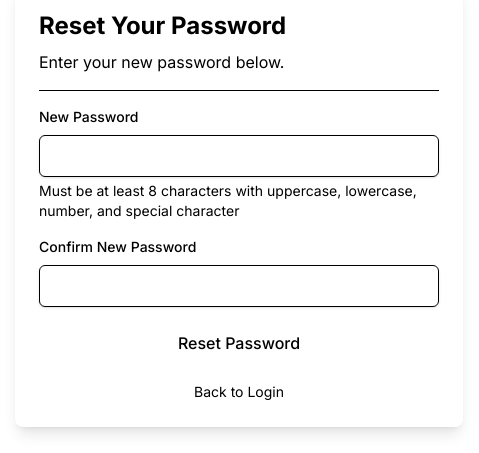
Test: ResetPasswordPage › shows validation error for password too short
Expected: the button "Reset Password" is shown, [39,322,439,362]
Type "Short1!" into the password field labelled "New Password" at (239, 156), box [39,134,439,176]
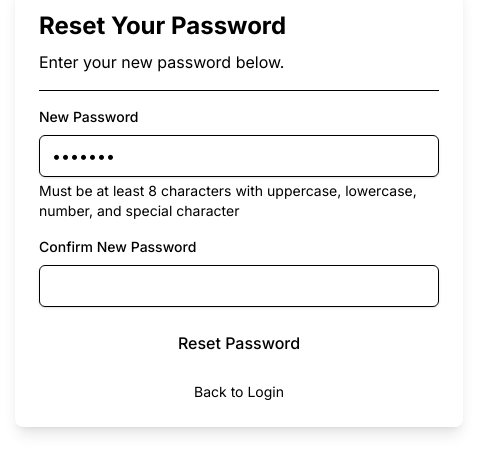
Type "Short1!" into the password field labelled "Confirm New Password" at (239, 286), box [39,264,439,306]
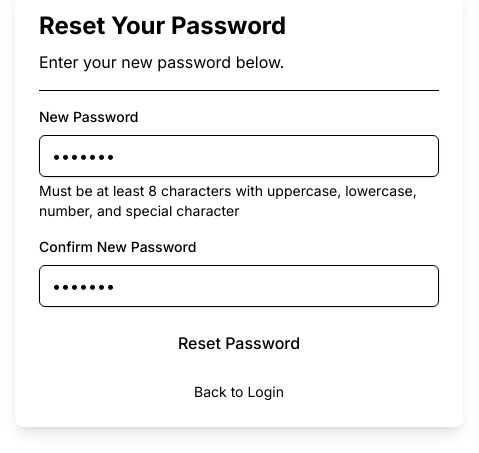
Click the button "Reset Password" at (239, 342), box [39,322,439,362]
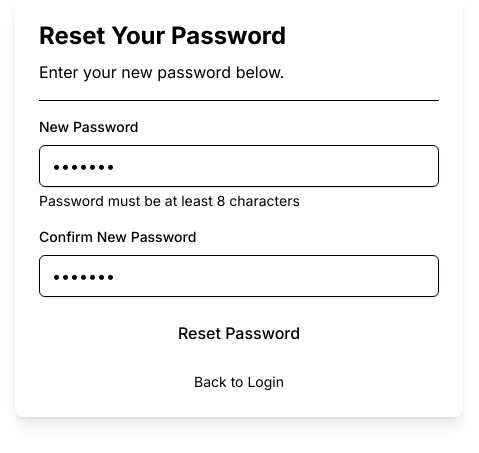
Now the text "Password must be at least 8 characters" is shown, box [39,192,300,208]
